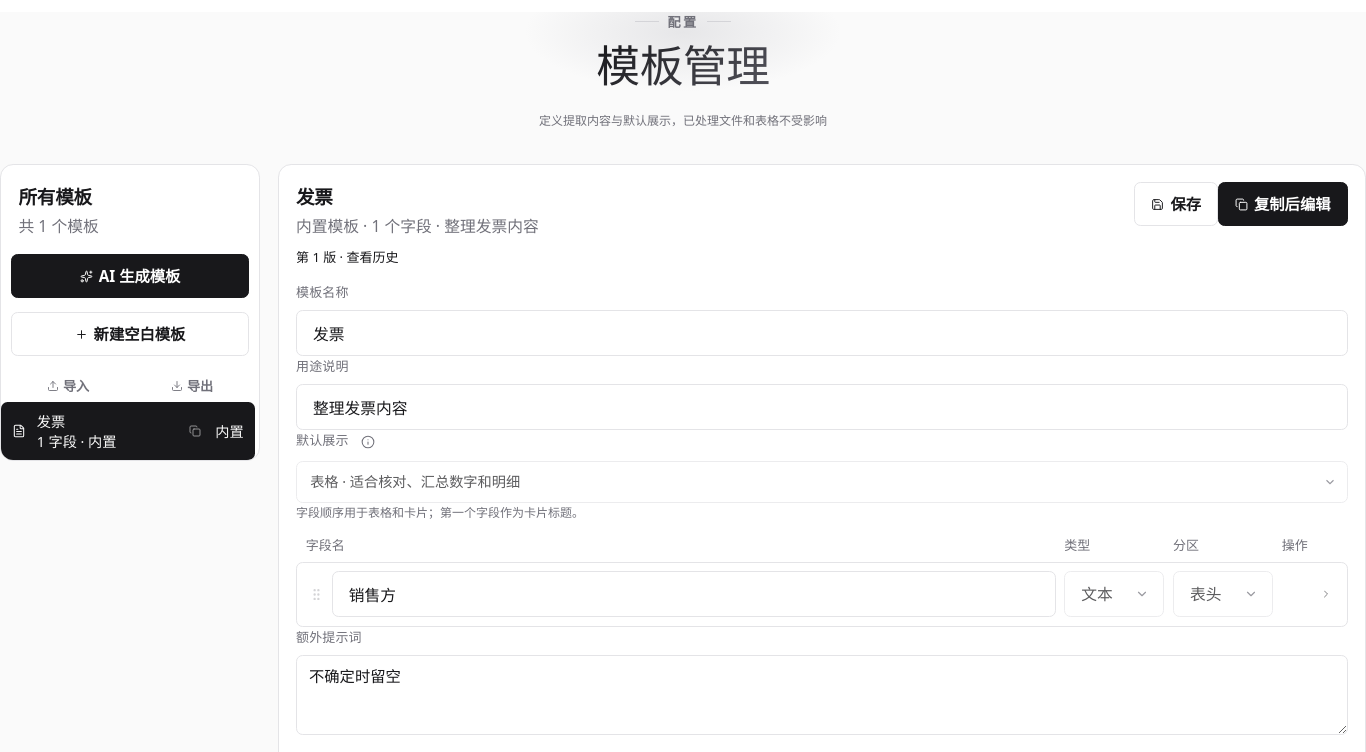
Test case: TemplatesPage › uses the native bridge when exporting a template in the desktop app
Expected: the heading "发票" is shown, [296,184,333,209]
Click the button "导出" at (192, 386), box [135,370,249,402]
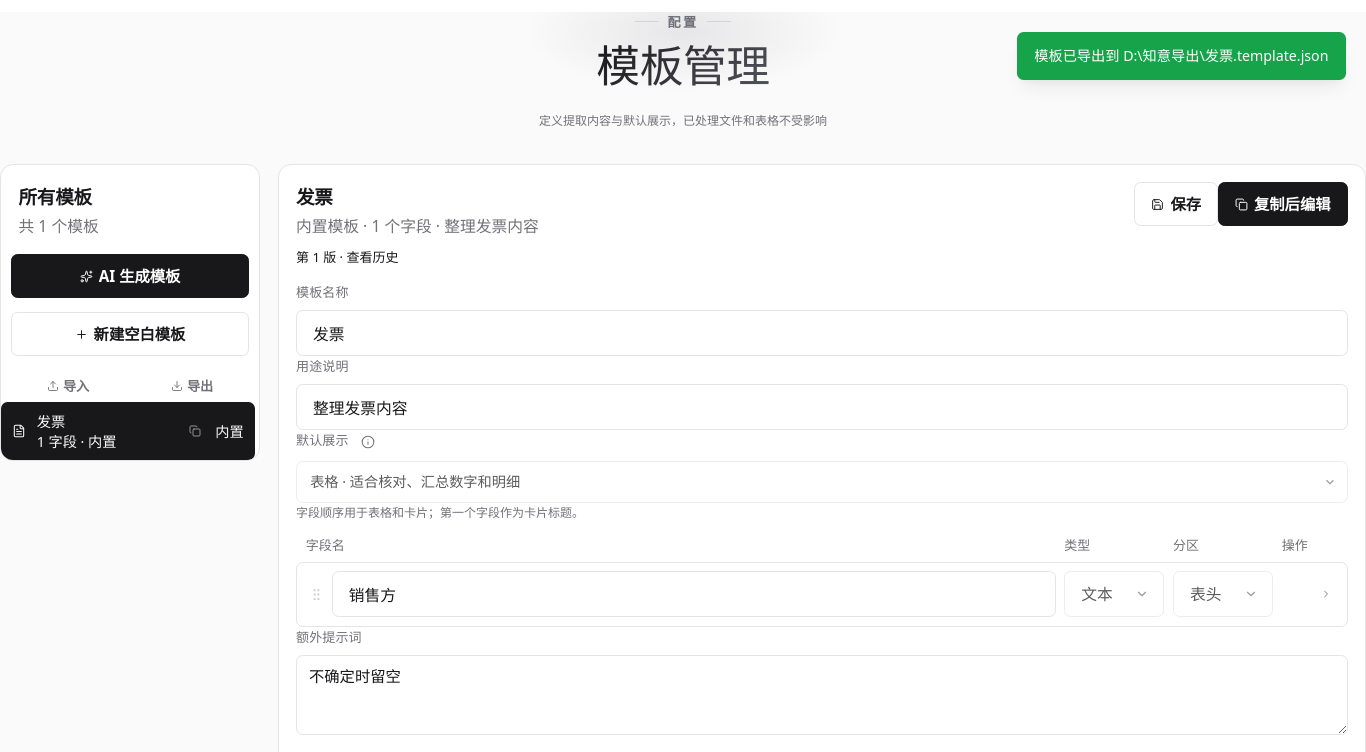
Result: the text "模板已导出到 D:\\知意导出\\发票.template.json" is shown at [1017,32,1346,80]
